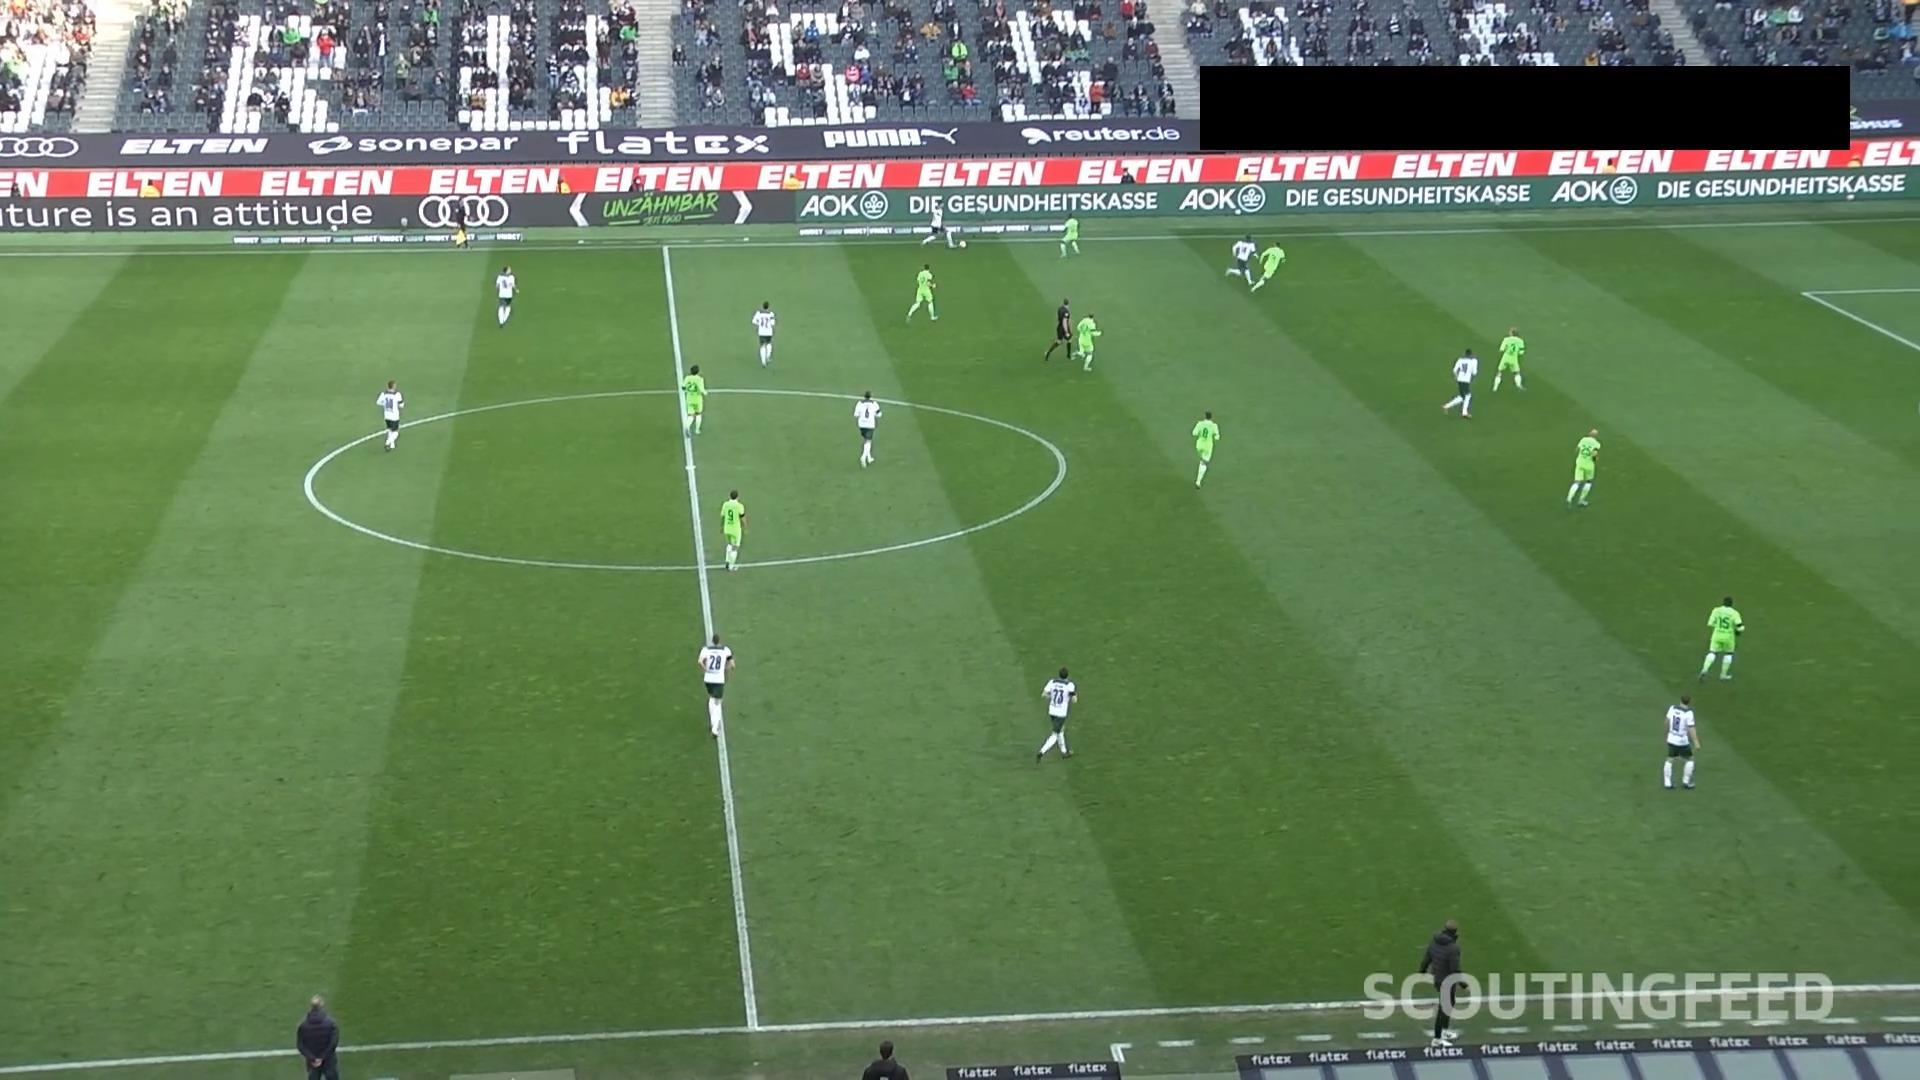coach: (1419, 918, 1461, 1045), (295, 993, 339, 1078)
player: (1034, 665, 1077, 763), (1697, 594, 1743, 680), (696, 633, 734, 736), (1661, 694, 1699, 788), (1565, 426, 1601, 506), (1441, 347, 1478, 418), (1490, 325, 1525, 391), (718, 489, 746, 571), (852, 389, 881, 468), (1190, 410, 1219, 487), (374, 380, 404, 450), (904, 262, 938, 322), (679, 363, 706, 435), (1250, 241, 1284, 292), (920, 196, 954, 247), (1224, 234, 1258, 284), (750, 300, 775, 366), (493, 264, 517, 326), (1075, 312, 1100, 371), (1057, 213, 1080, 258)
referee: (1043, 297, 1074, 360), (861, 1039, 909, 1078), (452, 194, 469, 249)
